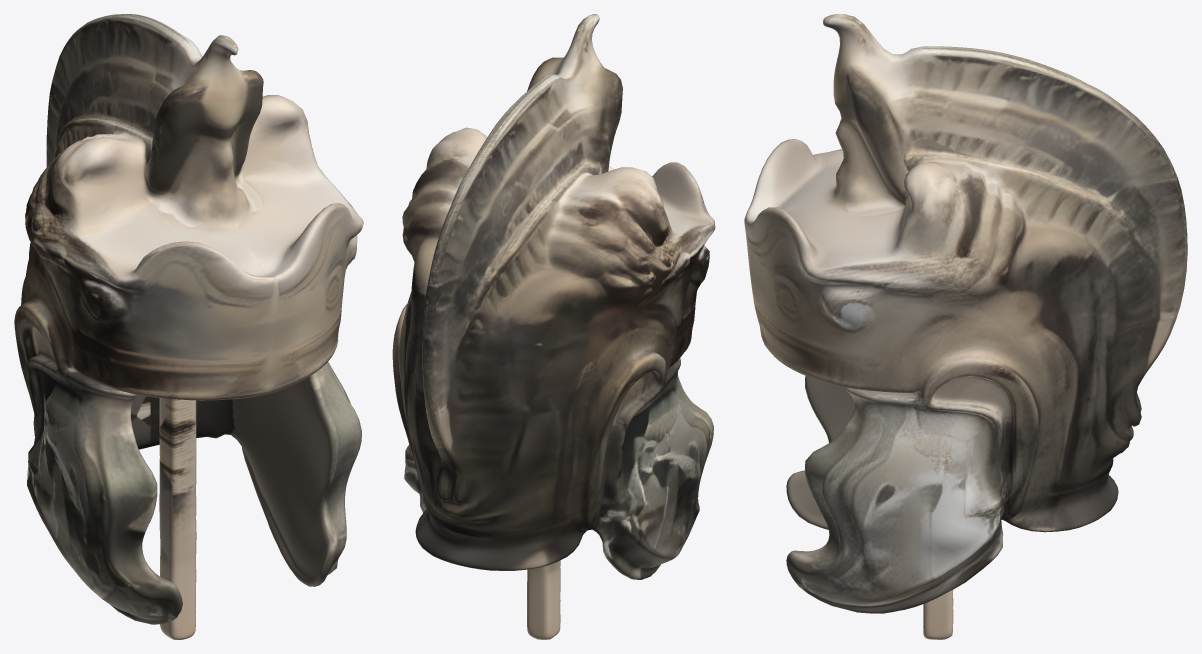
File: base_basic_pbr.glb
3 renders of one model, left to right at view 1: azimuth 30°, elevation 25°; view 2: azimuth 150°, elevation 25°; view 3: azimuth 270°, elevation 25°, orthographic. The views are drawn at different scales.
Parts seen in each view (by area): view 1: model; view 2: model; view 3: model.
Boxes of the visible parts, x1,y1,x2,y2 form: model: [14, 14, 363, 639]; model: [392, 14, 715, 639]; model: [744, 14, 1187, 639].
Size of the model in its own units: 0.8857 by 1.9 by 1.23.
Materials: 1 (1 with a texture image).
